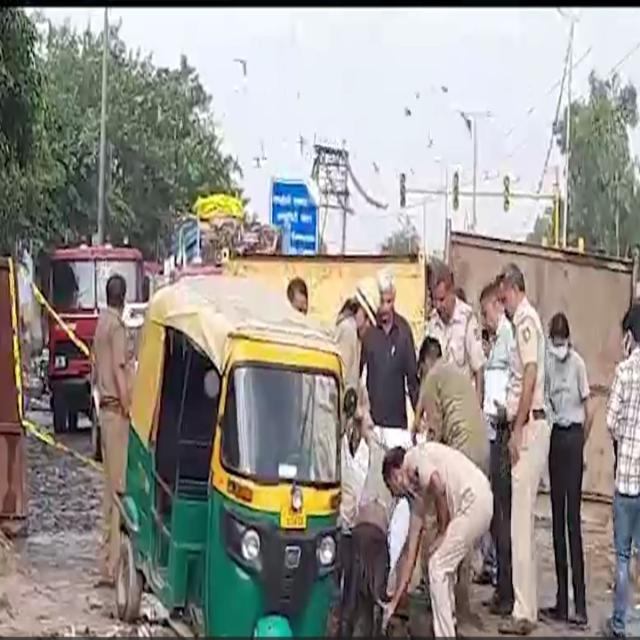autorickshaw: (116, 273, 342, 637)
emergency: (40, 244, 148, 347), (49, 318, 91, 432)
